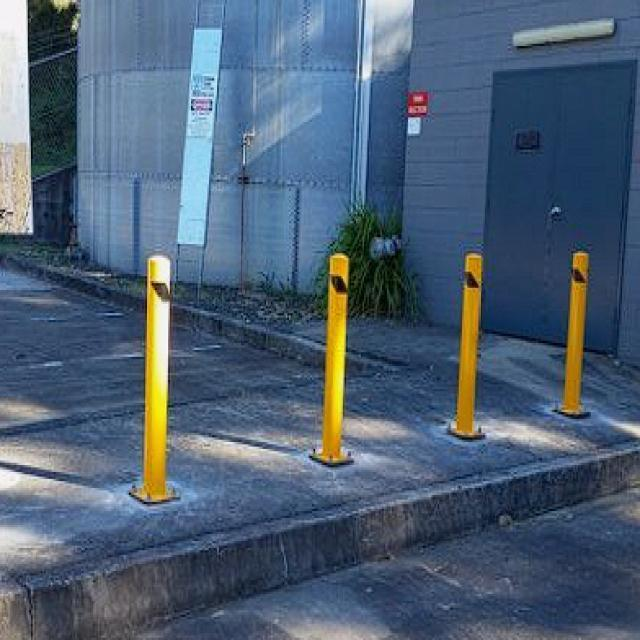obstacle: (143, 250, 170, 491), (456, 250, 482, 430), (324, 248, 346, 456), (565, 246, 590, 406)
